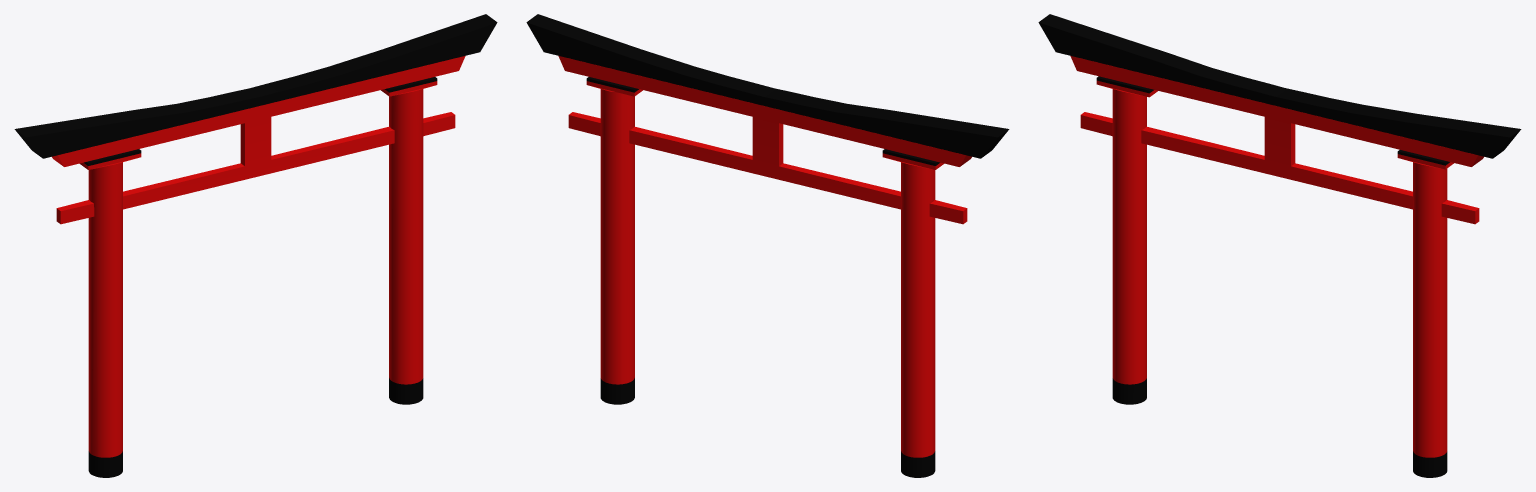
File: gatee.fbx
3 renders of one model, left to right at view 1: azimuth 30°, elevation 25°; view 2: azimuth 150°, elevation 25°; view 3: azimuth 330°, elevation 25°, orthographic.
Visible parts, largest first — view 1: polySurface2; view 2: polySurface2; view 3: polySurface2.
Part boxes in pixels (x1=…): polySurface2: x1=14, y1=14, x2=497, y2=477; polySurface2: x1=526, y1=14, x2=1009, y2=477; polySurface2: x1=1038, y1=14, x2=1521, y2=477.
Size of the model in its own units: 40.8 by 29.62 by 2.59.
